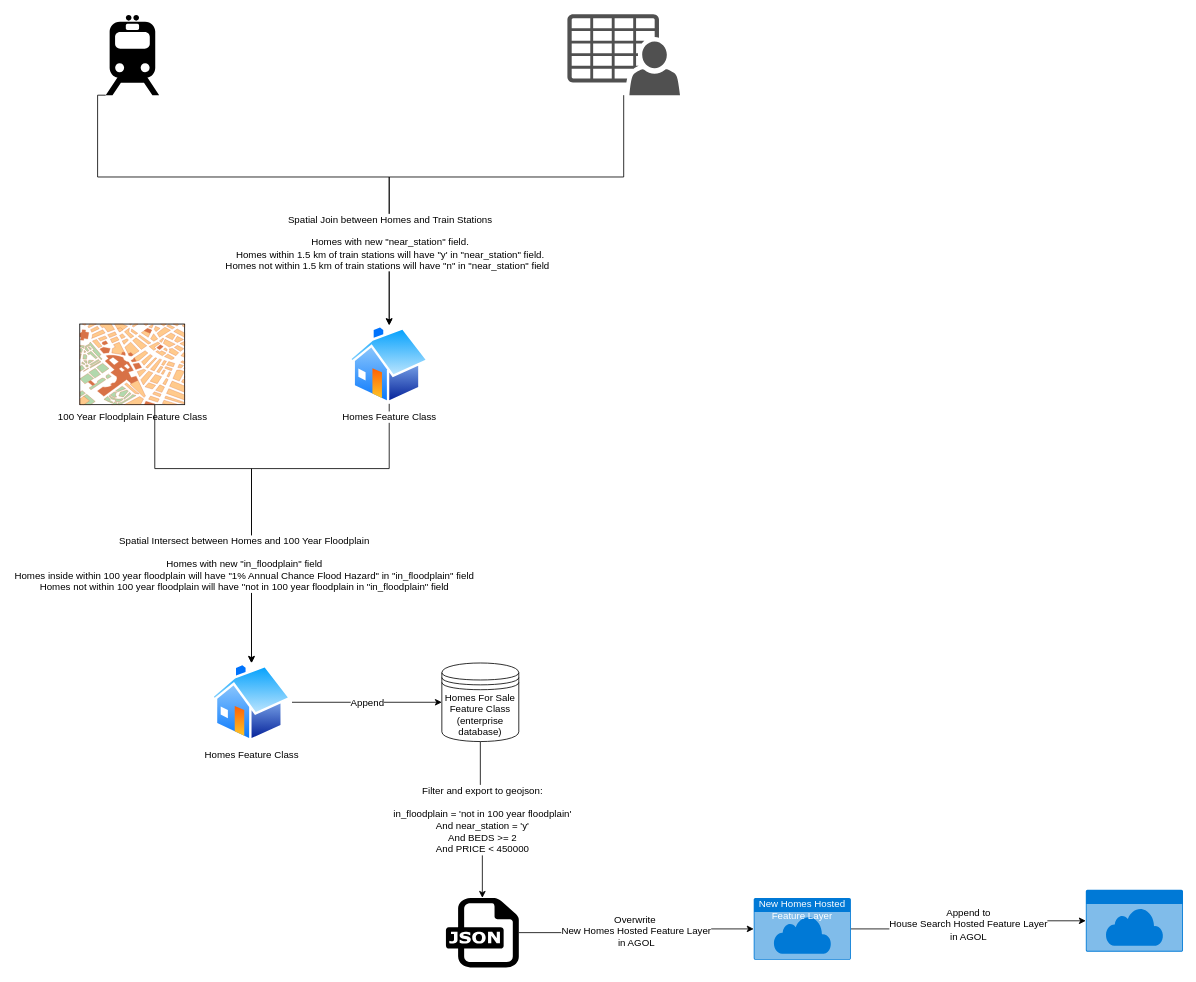
This 1196x982 diagram has some shape labels left out. The centre of each missing label's shape, as x and y in pixels:
CSV New Homes Results From Redfin: pixel 623 54
Homes For Sale Hosted Feature Layer: pixel 1134 920
NJ Trains Feature Class: pixel 132 55
